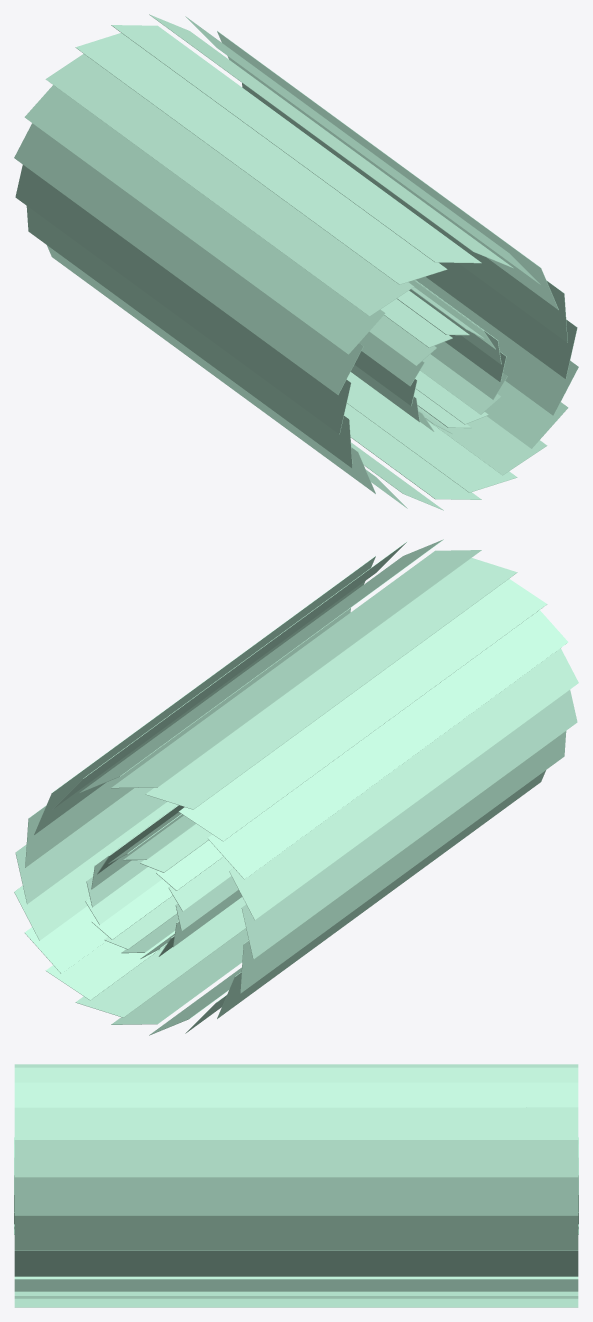
File: ITK-Pixel-Layout-Inner-Barrel.glb
3 renders of one model, top to bottom at view 1: azimuth 30°, elevation 25°; view 2: azimuth 150°, elevation 25°; view 3: azimuth 270°, elevation 25°, orthographic. The views are drawn at different scales.
Parts seen in each view (by area): view 1: ITK_Pixel_Layout_Inner_Barrel; view 2: ITK_Pixel_Layout_Inner_Barrel; view 3: ITK_Pixel_Layout_Inner_Barrel.
Part boxes in pixels (left/top/right/bottom): ITK_Pixel_Layout_Inner_Barrel: left=14, top=14, right=578, bottom=510; ITK_Pixel_Layout_Inner_Barrel: left=14, top=539, right=578, bottom=1035; ITK_Pixel_Layout_Inner_Barrel: left=14, top=1064, right=578, bottom=1307.
Size of the model in its own units: 0.2106 by 0.2106 by 0.4918.
